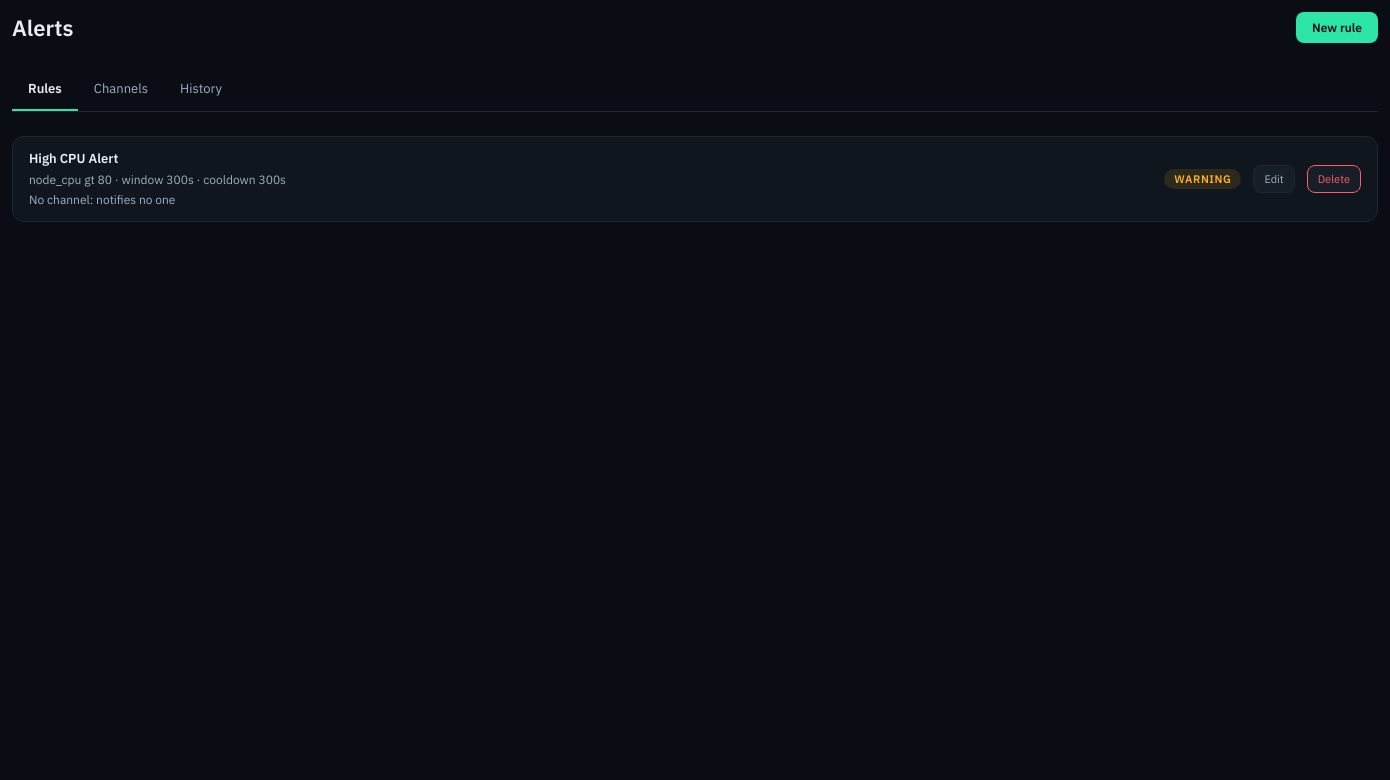
Test case: AlertsPage (msw) › opens AlertRuleForm when 'New rule' is clicked
expect the text "High CPU Alert" is shown: met, box [29,150,118,167]
What coordinates should you click on to do the following:
click the button "New rule"
I would click on:
 (1337, 28)
Its box is [1296,12,1378,43].
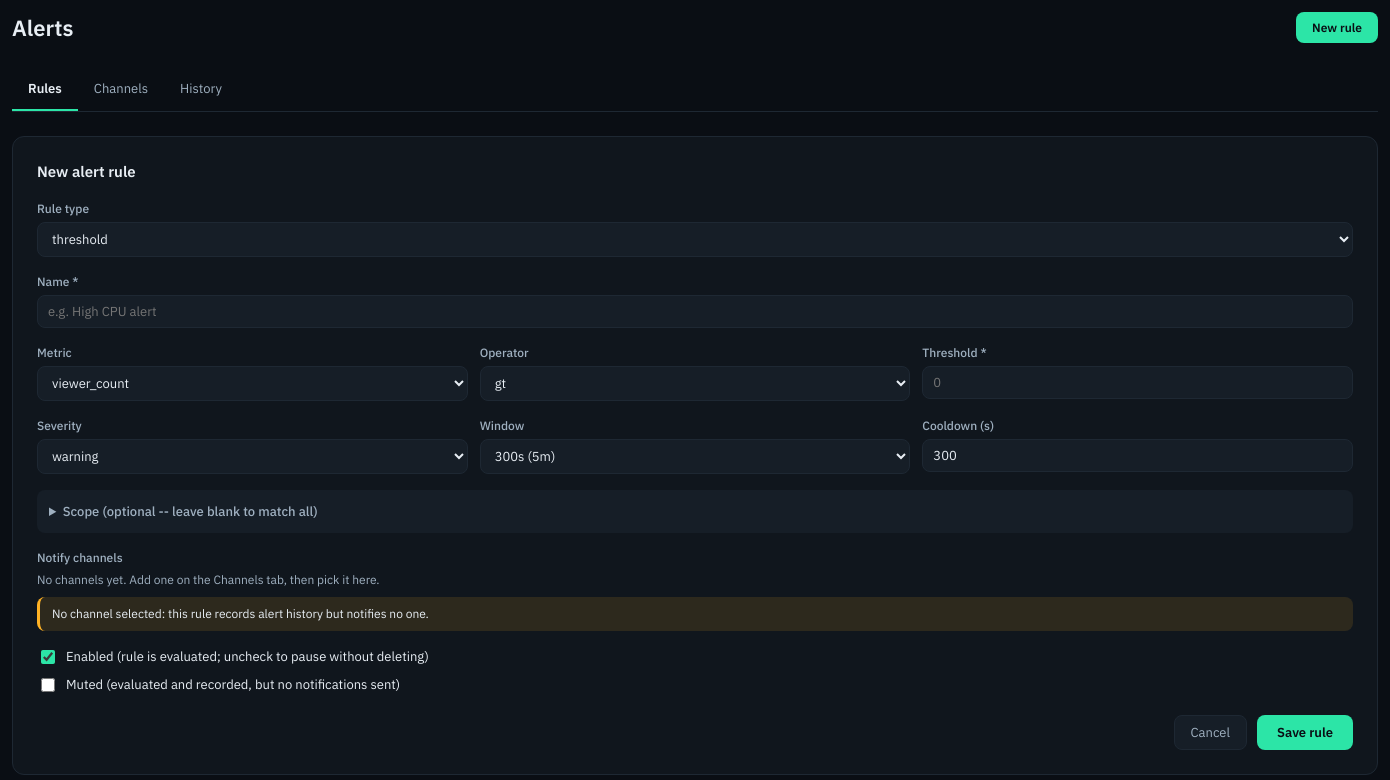
expect the heading "New alert rule" is shown: met, box [37,162,136,181]
